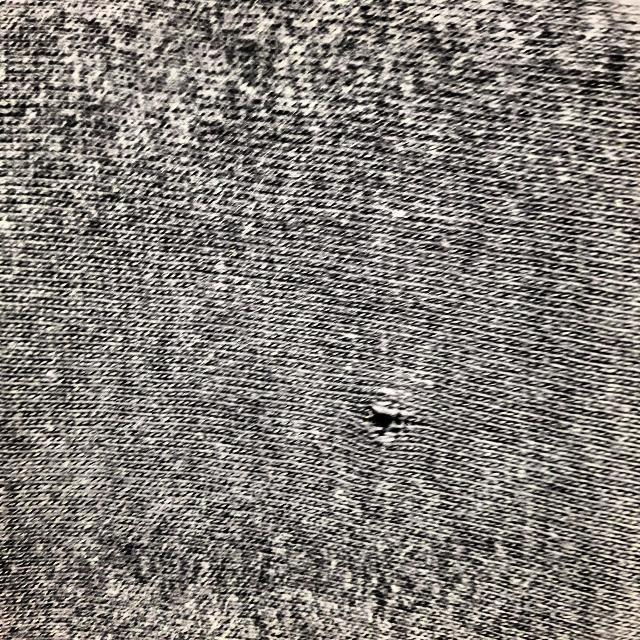cut: (383, 231, 459, 287)
